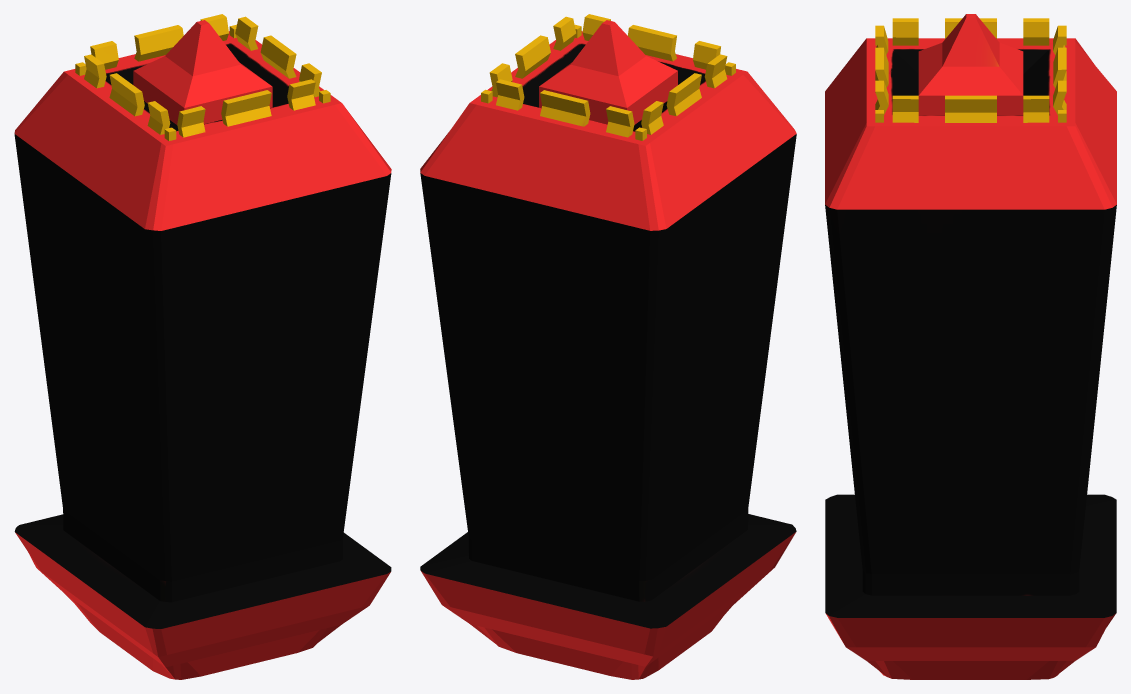
File: Enemy_First1.fbx
3 renders of one model, left to right at view 1: azimuth 30°, elevation 25°; view 2: azimuth 150°, elevation 25°; view 3: azimuth 270°, elevation 25°, orthographic. The views are drawn at different scales.
Parts seen in each view (by area): view 1: Cube; view 2: Cube; view 3: Cube.
Part boxes in pixels (<box>): Cube: <box>14,14,391,679</box>; Cube: <box>420,14,796,679</box>; Cube: <box>825,14,1116,679</box>.
Bounding box in the file's own units: 280 × 661 × 280.
Materials: 1 (1 with a texture image).
